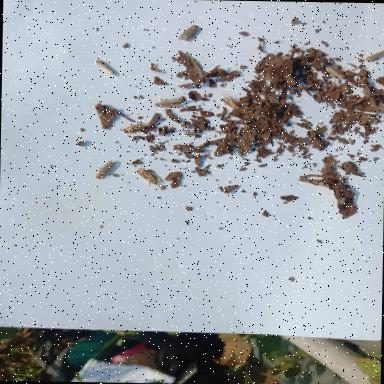pbw: (92, 160, 120, 180), (136, 168, 162, 188), (94, 59, 118, 79), (219, 92, 243, 112), (154, 96, 186, 110), (177, 25, 199, 44), (122, 122, 151, 136), (365, 48, 384, 63), (326, 66, 346, 80)
